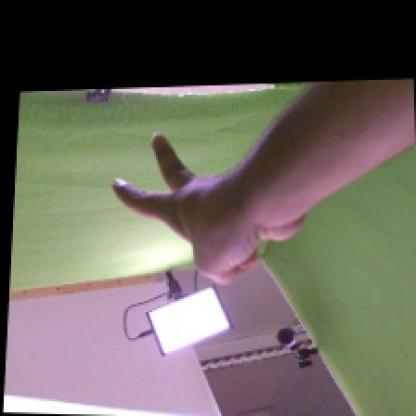Hand: (110, 130, 306, 284)
